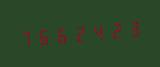four: (89, 19, 106, 44)
seven: (17, 25, 34, 50)
six: (35, 23, 52, 49), (53, 22, 70, 47)
three: (125, 16, 142, 41)
two: (71, 20, 88, 46), (107, 17, 124, 43)
